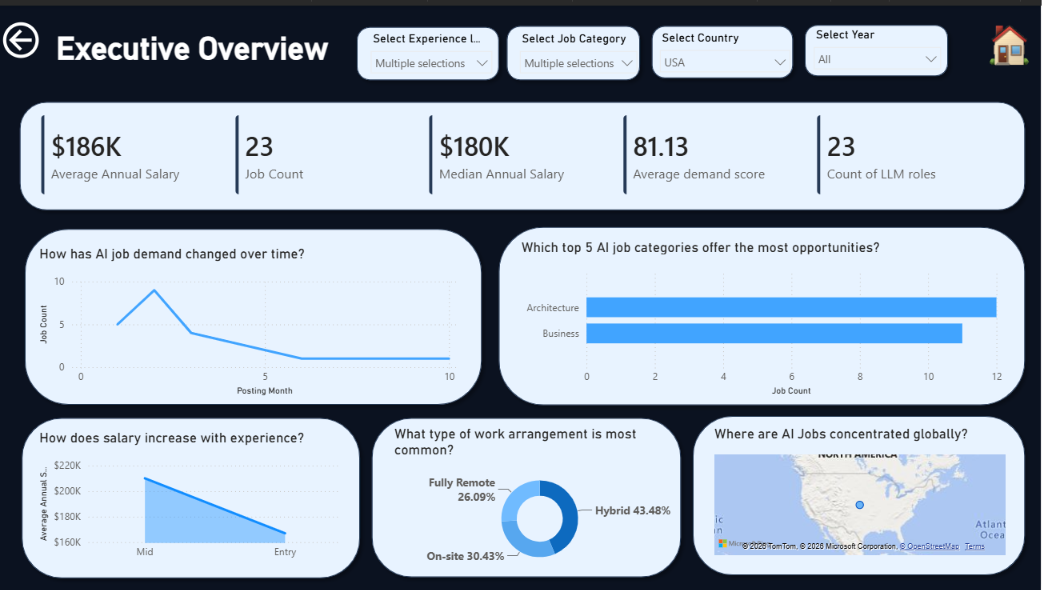

This screenshot's page, from the dashboard's own definition file:
{"tool":"powerbi","page":{"name":"Executive Overview","canvas":[1280,720],"ordinal":1},"visuals":[{"type":"shape","box":[17.6,108.8,1251.5,150.9],"z":0,"group":"g1"},{"type":"group","id":"g1","title":"Background","box":[17.6,14.9,1252.1,696.5],"z":500},{"type":"shape","box":[23.7,265.5,578.8,233.7],"z":1000,"group":"g1"},{"type":"lineChart","title":"How has AI job demand changed over time?","fields":{"Category":["AI_data_jobs.posting_month"],"Y":["CountNonNull(AI_data_jobs.job_id)"]},"box":[45.4,294.5,522.7,189],"z":1000},{"type":"shape","box":[605.9,262.3,663.8,236.8],"z":2000,"group":"g1"},{"type":"clusteredBarChart","title":"Which top 5 AI job categories offer the most opportunities?","fields":{"Y":["CountNonNull(AI_data_jobs.job_id)"],"Category":["AI_data_jobs.job_category"]},"box":[636.8,285.9,600,197.5],"z":2000},{"type":"shape","box":[449.9,496.6,397.5,213.5],"z":3000,"group":"g1"},{"type":"stackedAreaChart","title":"How does salary increase with experience?","fields":{"Category":["AI_data_jobs_experience.experience_level"],"Y":["Avg(AI_data_jobs.annual_salary_usd)"]},"box":[45.4,520.2,380.4,168.1],"z":3000},{"type":"shape","box":[20.6,496.6,433.1,214.7],"z":4000,"group":"g1"},{"type":"donutChart","title":"What type of work arrangement is most common?","fields":{"Category":["AI_data_jobs.remote_work"],"Y":["CountNonNull(AI_data_jobs.job_id)"]},"box":[481,515.3,366.9,179.1],"z":4000},{"type":"shape","box":[843.8,494.2,425.8,213.5],"z":5000,"group":"g1"},{"type":"map","title":"Where are AI Jobs concentrated globally?","fields":{"Size":["CountNonNull(AI_data_jobs.job_id)"],"Category":["AI_data_jobs.country"]},"box":[873.6,515.3,366.9,164.4],"z":5000},{"type":"shape","box":[615.6,15.6,181.6,84.7],"z":6000,"group":"g1"},{"type":"cardVisual","fields":{"Data":["Avg(AI_data_jobs_company.annual_salary_usd)","CountNonNull(AI_data_jobs.job_id)","Median(AI_data_jobs_experience.annual_salary_usd)1","Avg(AI_data_jobs.demand_score)","CountNonNull(AI_data_jobs.is_llm_role)"]},"box":[35.6,117.8,1218.4,131.3],"z":6000},{"type":"shape","box":[431.5,16.9,192.6,83.4],"z":7000,"group":"g1"},{"type":"textbox","title":"Executive Overview","box":[49.1,24.5,377.9,66.3],"z":7000},{"type":"shape","box":[793.5,15.6,191.4,82.2],"z":8000,"group":"g1"},{"type":"slicer","fields":{"Values":["AI_data_jobs.job_category"]},"box":[629.5,27,164.4,63.8],"z":8000},{"type":"shape","box":[981.2,14.9,193.9,81],"z":9000,"group":"g1"},{"type":"slicer","fields":{"Values":["AI_data_jobs_experience.experience_level"]},"box":[446.6,27,169.3,62.6],"z":9000},{"type":"slicer","fields":{"Values":["AI_data_jobs.country"]},"box":[801.2,25.8,180.4,66.3],"z":10000},{"type":"slicer","fields":{"Values":["AI_data_jobs.posting_year"]},"box":[990.2,22.1,176.7,66.3],"z":11000},{"type":"actionButton","box":[0,14.7,60.1,55.2],"z":12000},{"type":"image","box":[1214.7,18.4,51.5,60.1],"z":13000}]}

Visuals, with their boxes in screenshot pixels (x1, y1, x2, y2), scaled from the page's 1280x720 canvas onto the 1042x590 screenshot:
shape: <box>14,89,1033,213</box>
"Background" group: <box>14,12,1034,583</box>
shape: <box>19,218,490,409</box>
"How has AI job demand changed over time?" lineChart: <box>37,241,462,396</box>
shape: <box>493,215,1034,409</box>
"Which top 5 AI job categories offer the most opportunities?" clusteredBarChart: <box>518,234,1007,396</box>
shape: <box>366,407,690,582</box>
"How does salary increase with experience?" stackedAreaChart: <box>37,426,347,564</box>
shape: <box>17,407,369,583</box>
"What type of work arrangement is most common?" donutChart: <box>392,422,690,569</box>
shape: <box>687,405,1034,580</box>
"Where are AI Jobs concentrated globally?" map: <box>711,422,1010,557</box>
shape: <box>501,13,649,82</box>
cardVisual - Avg(AI_data_jobs_company.annual_salary_usd) x CountNonNull(AI_data_jobs.job_id): <box>29,97,1021,204</box>
shape: <box>351,14,508,82</box>
"Executive Overview" textbox: <box>40,20,348,74</box>
shape: <box>646,13,802,80</box>
slicer - AI_data_jobs.job_category: <box>512,22,646,74</box>
shape: <box>799,12,957,79</box>
slicer - AI_data_jobs_experience.experience_level: <box>364,22,501,73</box>
slicer - AI_data_jobs.country: <box>652,21,799,75</box>
slicer - AI_data_jobs.posting_year: <box>806,18,950,72</box>
actionButton: <box>0,12,49,57</box>
image: <box>989,15,1031,64</box>
